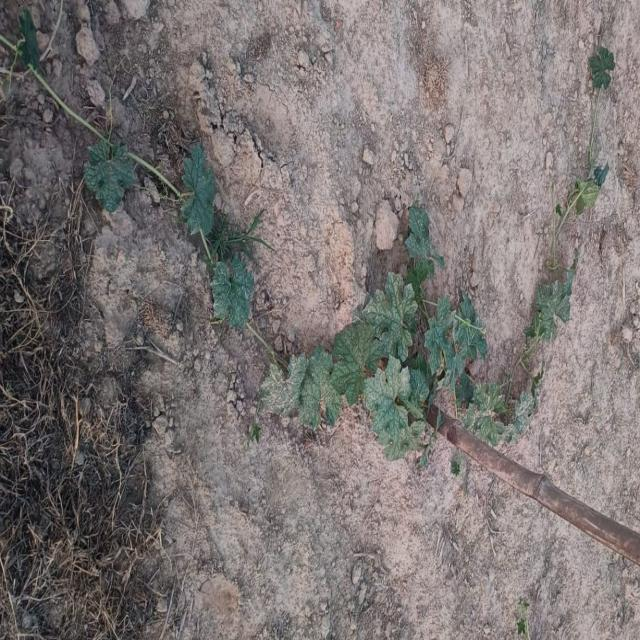plant: (181, 147, 536, 459), (520, 272, 571, 362), (85, 140, 131, 207)
